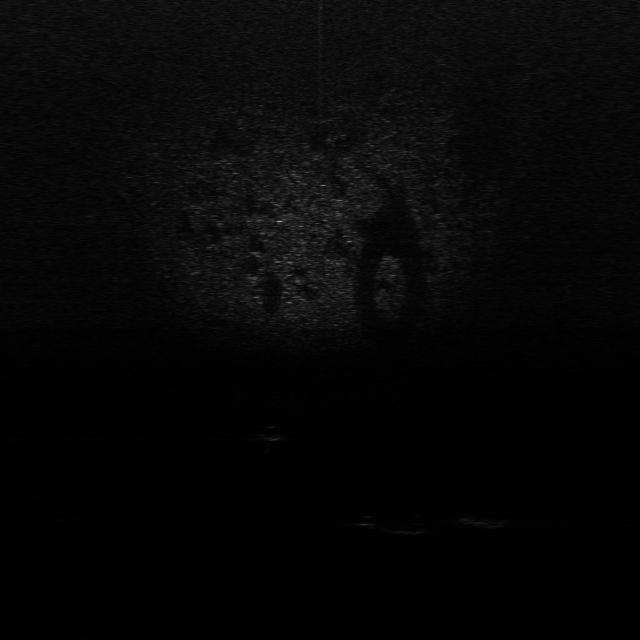ball: (253, 422, 286, 442)
metal bucket: (462, 514, 511, 531)
tyre: (362, 510, 432, 537)
